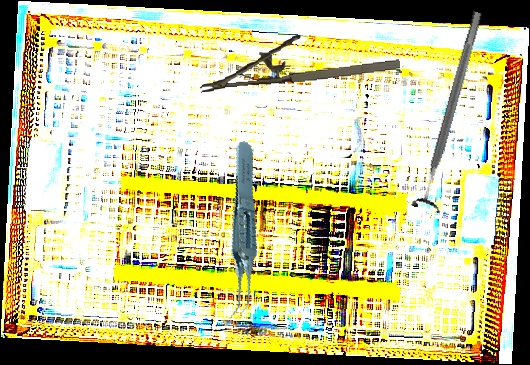Fixation Ring: (410, 8, 494, 214)
Needle Holder: (196, 26, 401, 93)
Tissue Forceps: (191, 139, 290, 323)
